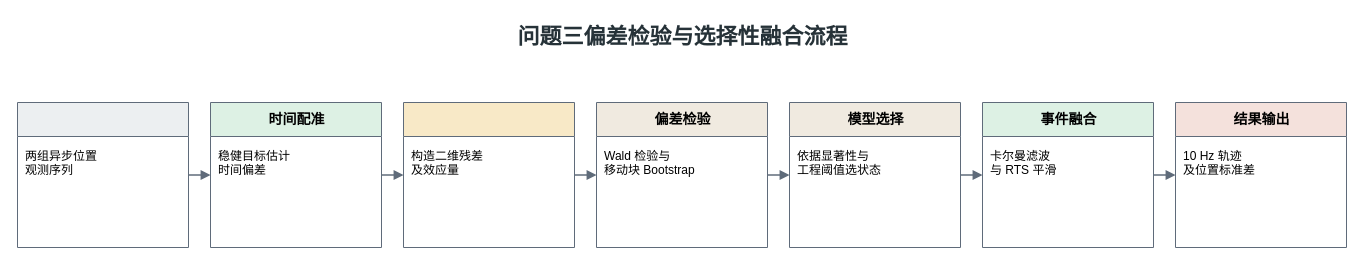
Image size: 1364x265. Some labels were removed from this diagram. Each missing label, with the box of its shape:
含噪观测: (16, 102, 188, 248)
对齐残差: (402, 102, 574, 248)
